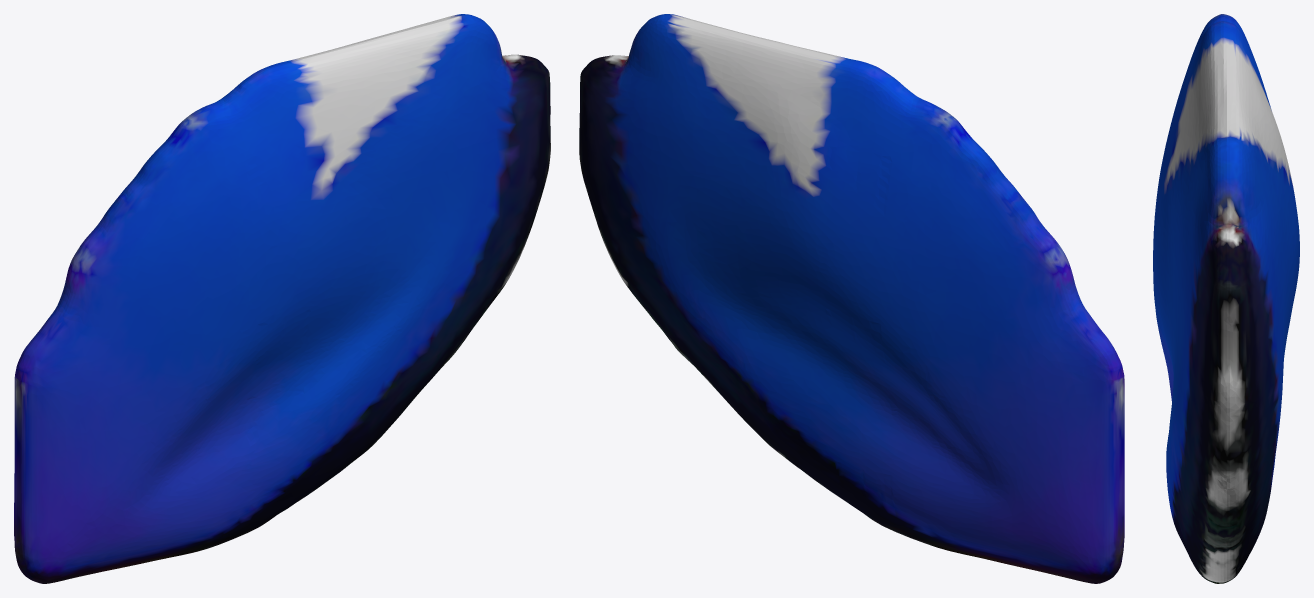
Rendered from sapphire_flawless.glb.
3 views of the same model, side by side, from view 1: azimuth 30°, elevation 25°; view 2: azimuth 150°, elevation 25°; view 3: azimuth 270°, elevation 25° (orthographic). The views are drawn at different scales.
Parts seen in each view (by area): view 1: geometry_0; view 2: geometry_0; view 3: geometry_0.
Part boxes in pixels (left/top/right/bottom): geometry_0: left=14, top=14, right=550, bottom=583; geometry_0: left=579, top=14, right=1124, bottom=583; geometry_0: left=1153, top=14, right=1299, bottom=583.
Size of the model in its own units: 0.5938 by 0.4935 by 0.1134.
